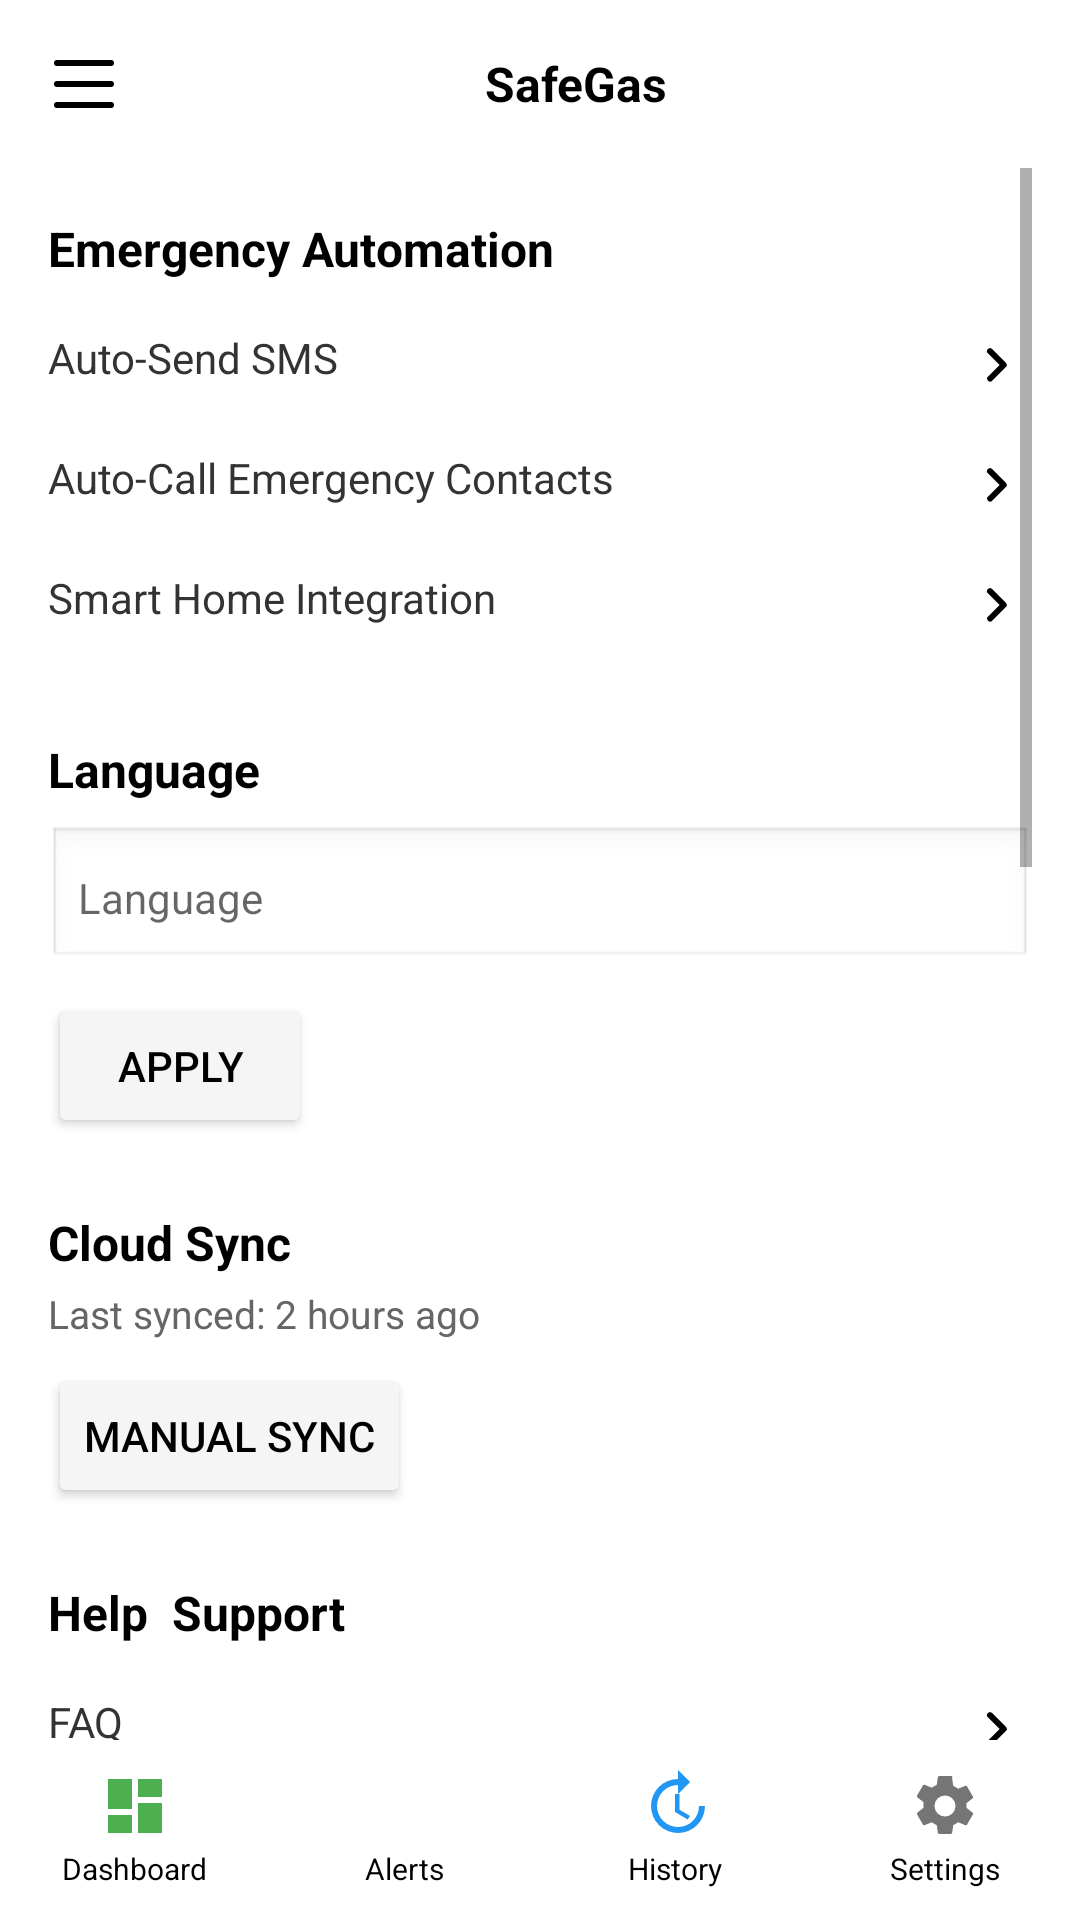

Screen size 1080x1920. Icon name, then its center in pixels as point (x, y):
Menu: point (84, 84)
